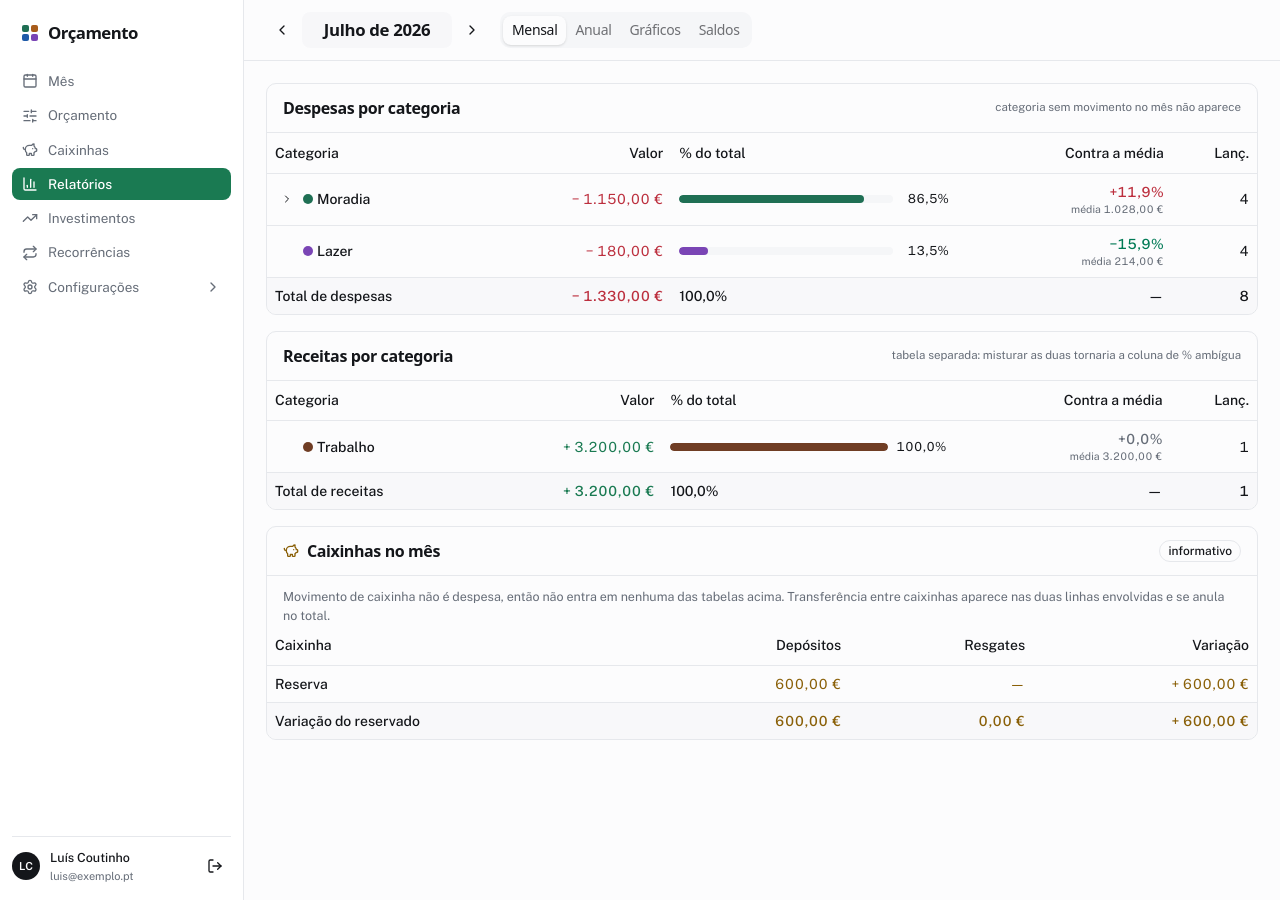
Test: ReportsPage — monthly view › keeps subcategories collapsed until the expander is clicked
Expected: the text "Moradia" is shown, top-left (317, 189), bottom-right (370, 209)
Expected: the text "Renda" is not shown
Click the button named "Ver subcategorias de Moradia": (287, 199) top-left (275, 187), bottom-right (299, 211)
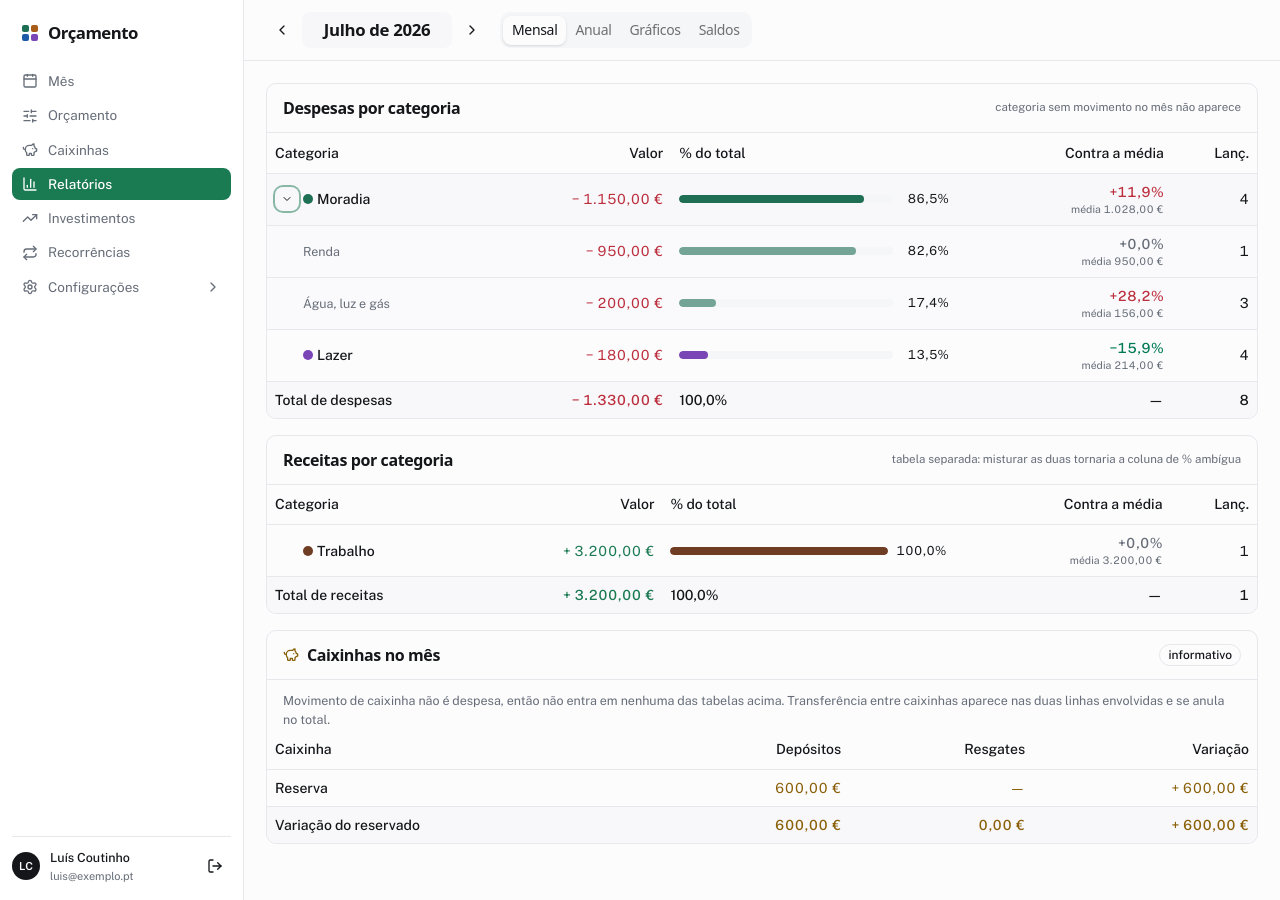
Result: the text "Renda" is shown at top-left (303, 244), bottom-right (340, 259)
Result: the text "Água, luz e gás" is shown at top-left (303, 296), bottom-right (390, 311)
